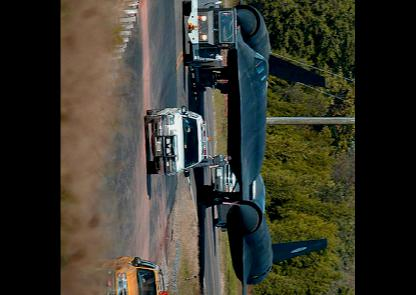Rafale: (191, 0, 328, 294)
